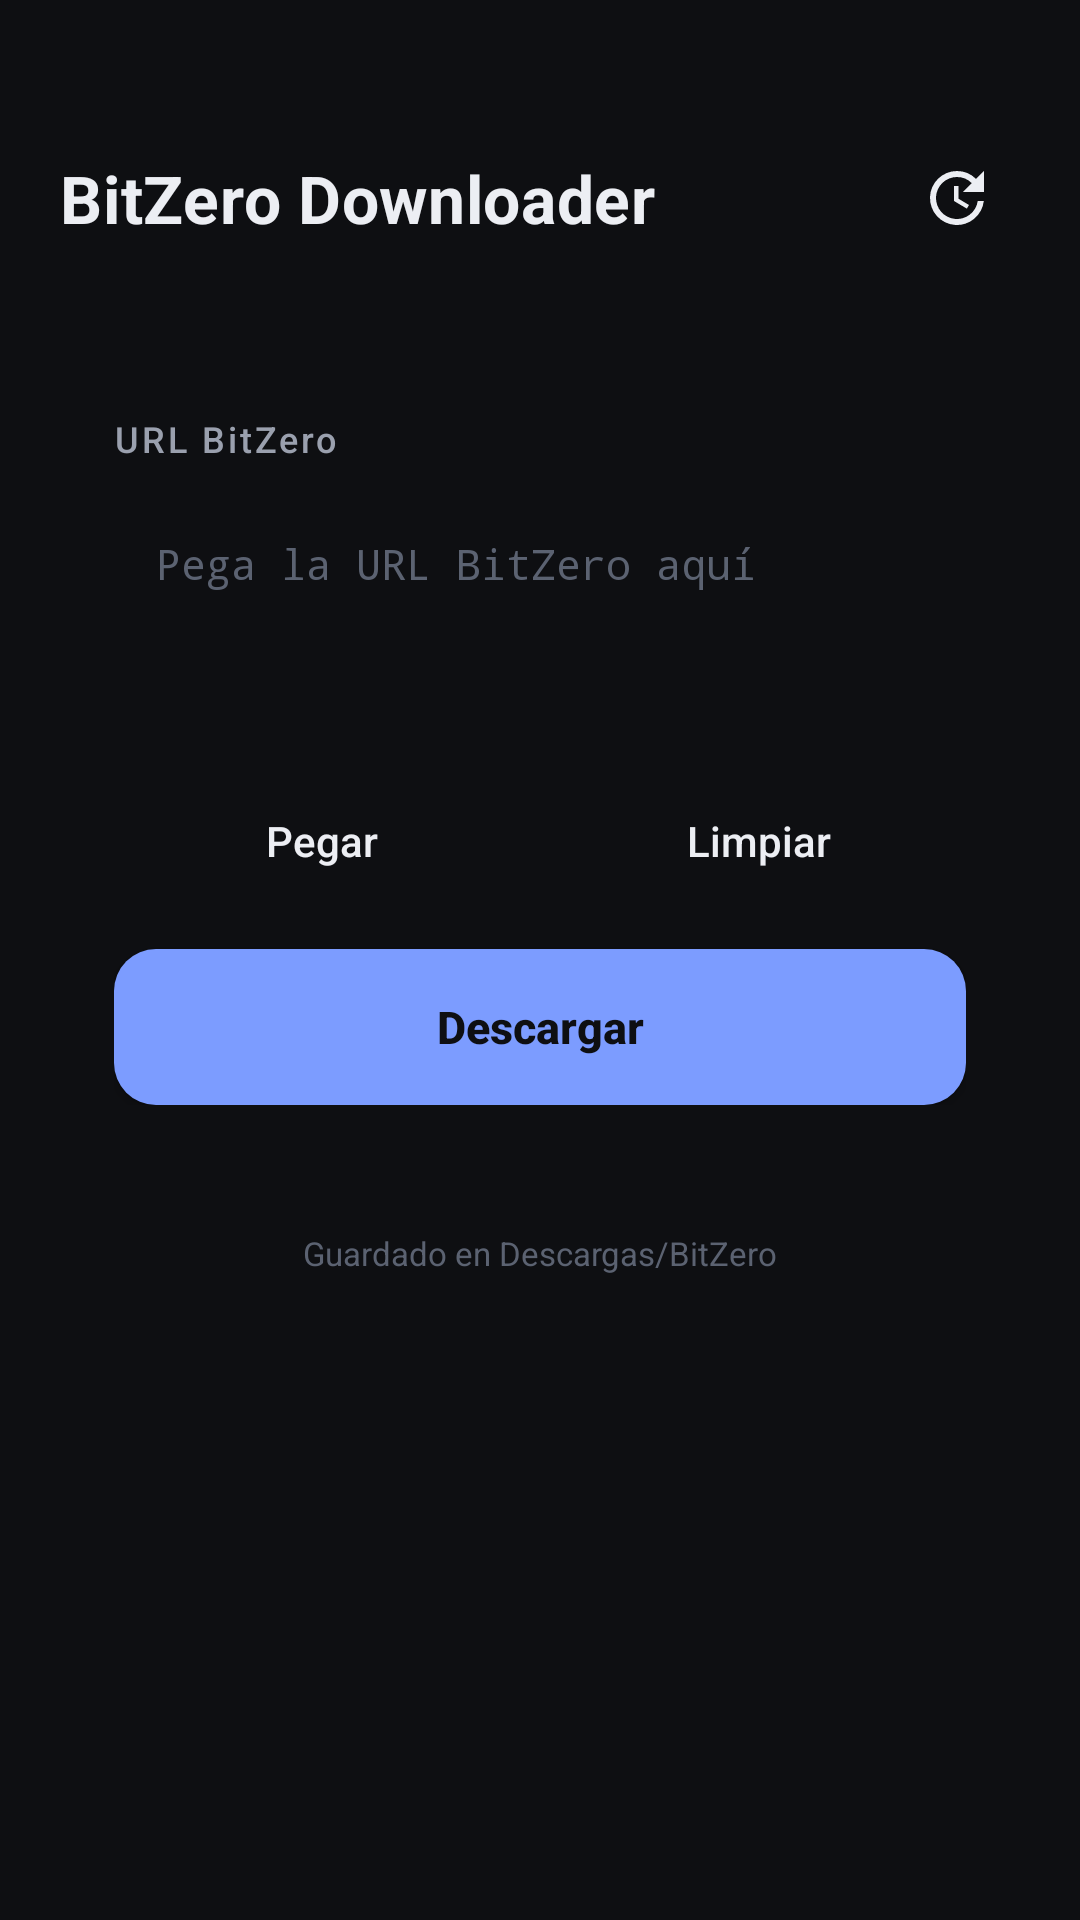

Named icons in this screenshot (1080 x 1920) and their centers, (x=x, y=y):
Historial: (x=957, y=198)
